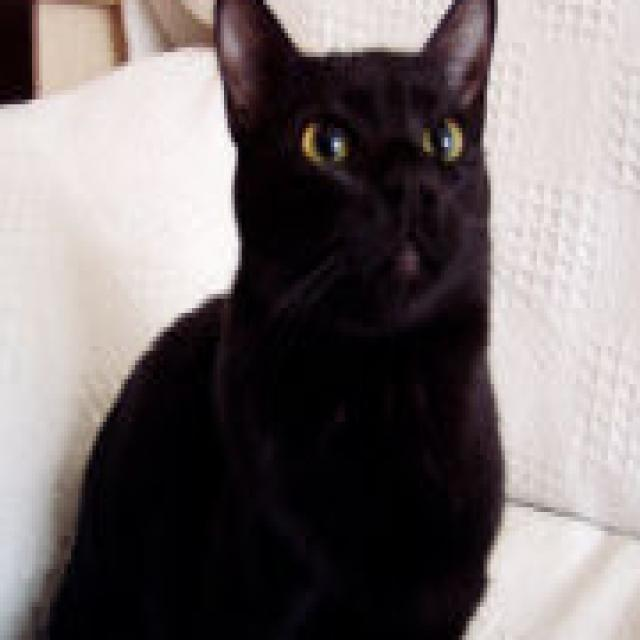Bombay: (42, 0, 508, 640)
